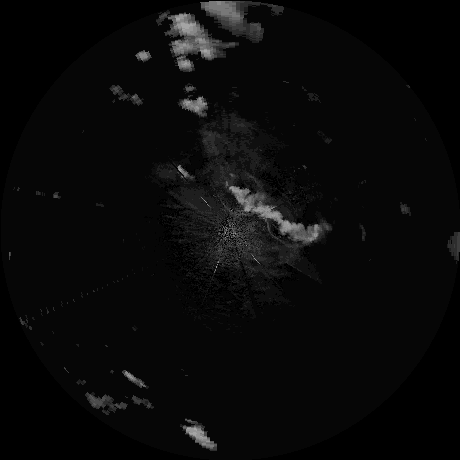frontgust: (264, 218, 306, 247), (245, 171, 267, 192), (224, 204, 253, 217)
